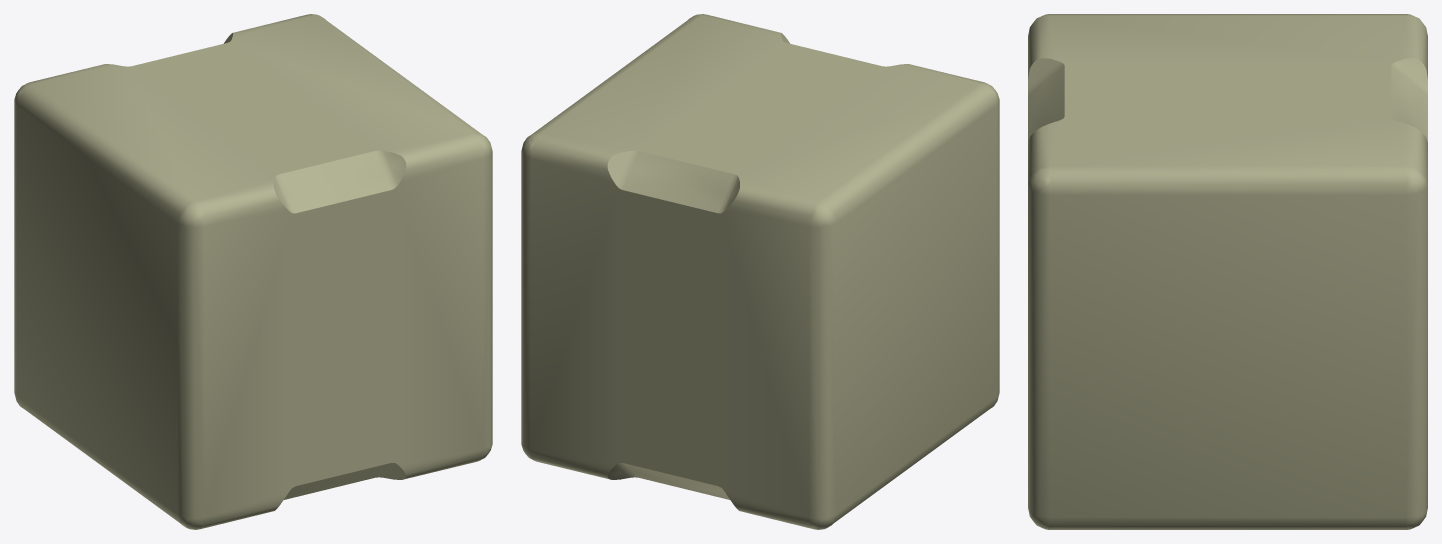
3 views of the same model, side by side, from view 1: azimuth 30°, elevation 25°; view 2: azimuth 150°, elevation 25°; view 3: azimuth 270°, elevation 25° (orthographic). The views are drawn at different scales.
Parts seen in each view (by area): view 1: box_low; view 2: box_low; view 3: box_low.
Boxes of the visible parts, x1,y1,x2,y2 form: box_low: (14,14,492,529); box_low: (521,14,999,529); box_low: (1028,14,1427,529).
Bounding box in the file's own units: 68.12 × 68.12 × 68.22.
